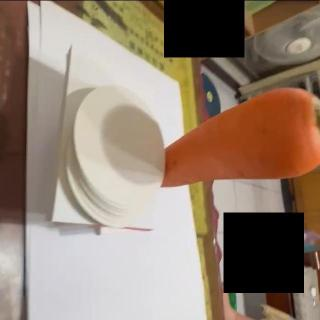carrot: (158, 85, 320, 188)
